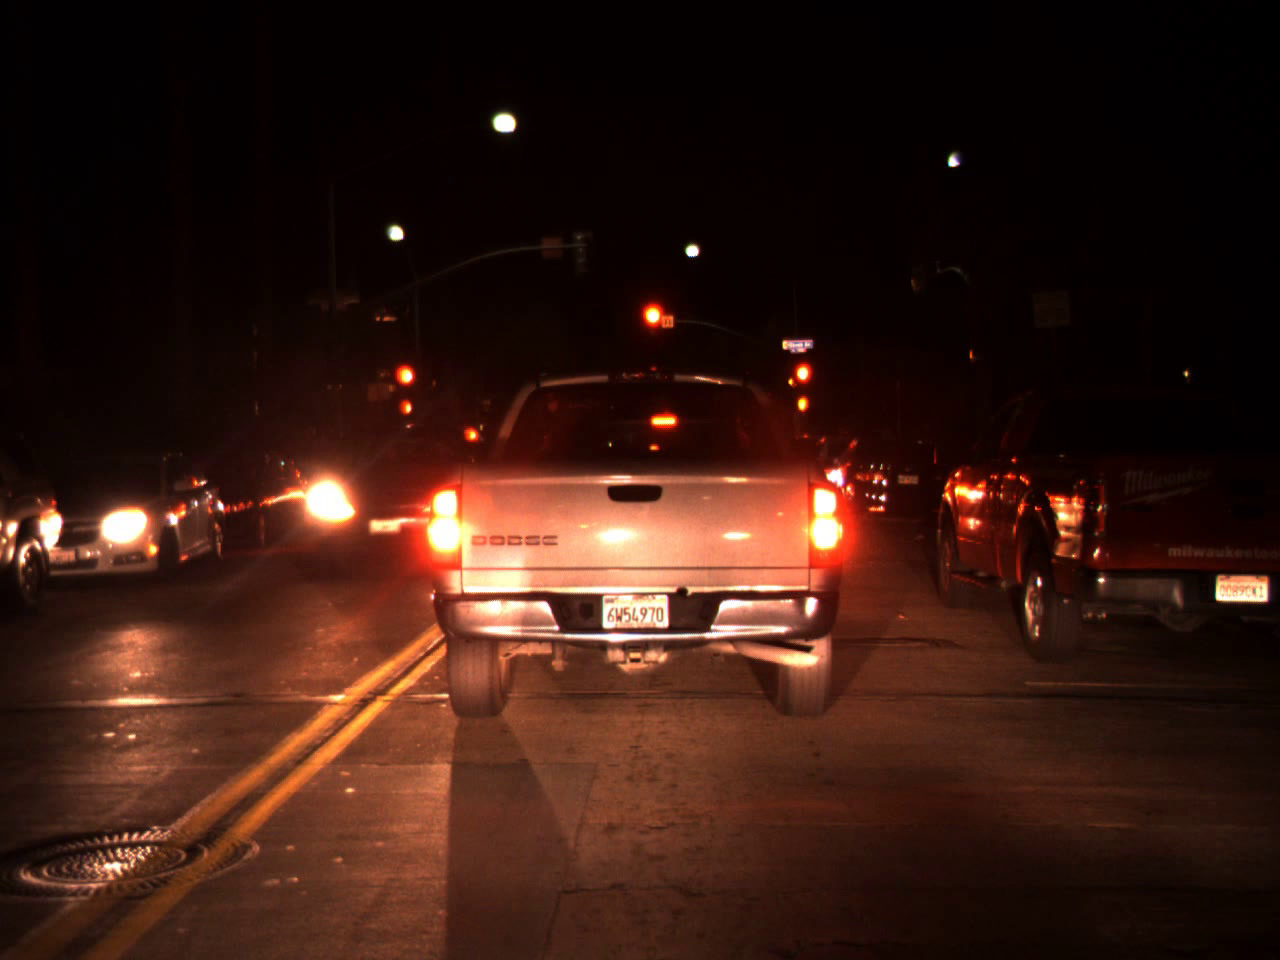stop: (641, 301, 671, 354), (392, 361, 417, 409), (792, 359, 816, 407)
